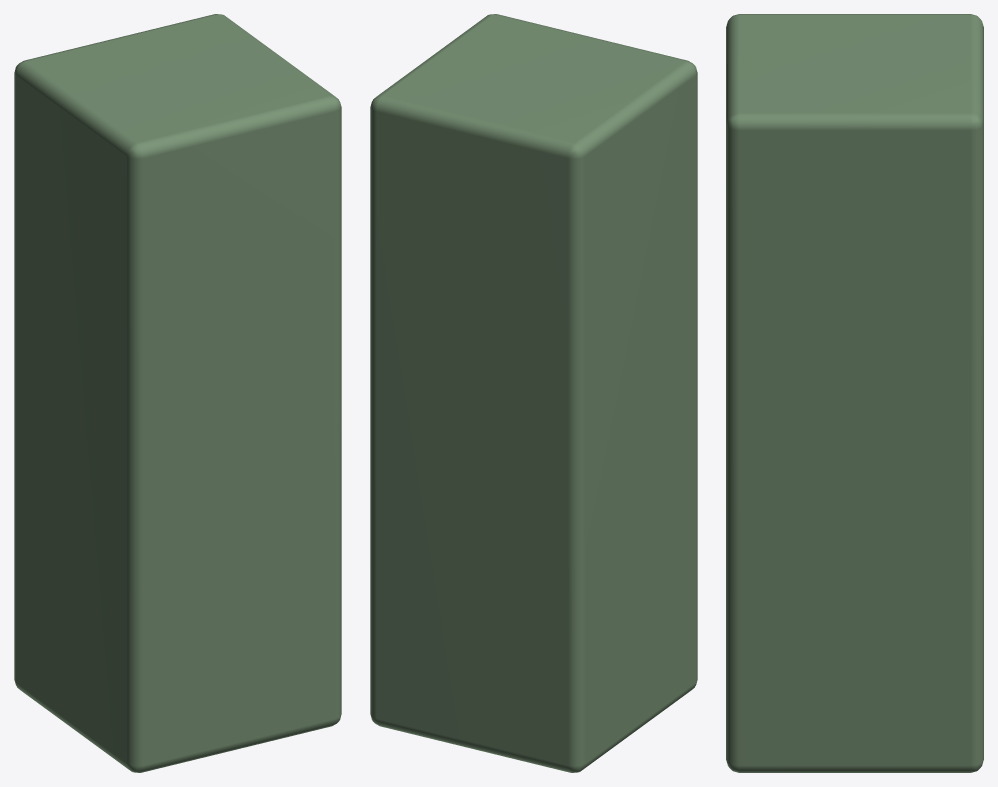
File: SM_EG_Column_scuff_guard_73b8d23c33.fbx
3 views of the same model, side by side, from view 1: azimuth 30°, elevation 25°; view 2: azimuth 150°, elevation 25°; view 3: azimuth 270°, elevation 25° (orthographic). The views are drawn at different scales.
Parts seen in each view (by area): view 1: SM_EG_Column_scuff_guard_73b8d23c33; view 2: SM_EG_Column_scuff_guard_73b8d23c33; view 3: SM_EG_Column_scuff_guard_73b8d23c33.
Boxes of the visible parts, box(x1,y1,x2,y2) form: SM_EG_Column_scuff_guard_73b8d23c33: box(14, 14, 341, 772); SM_EG_Column_scuff_guard_73b8d23c33: box(370, 14, 697, 772); SM_EG_Column_scuff_guard_73b8d23c33: box(726, 14, 983, 772).
Bounding box in the file's own units: 39 × 39 × 110.
